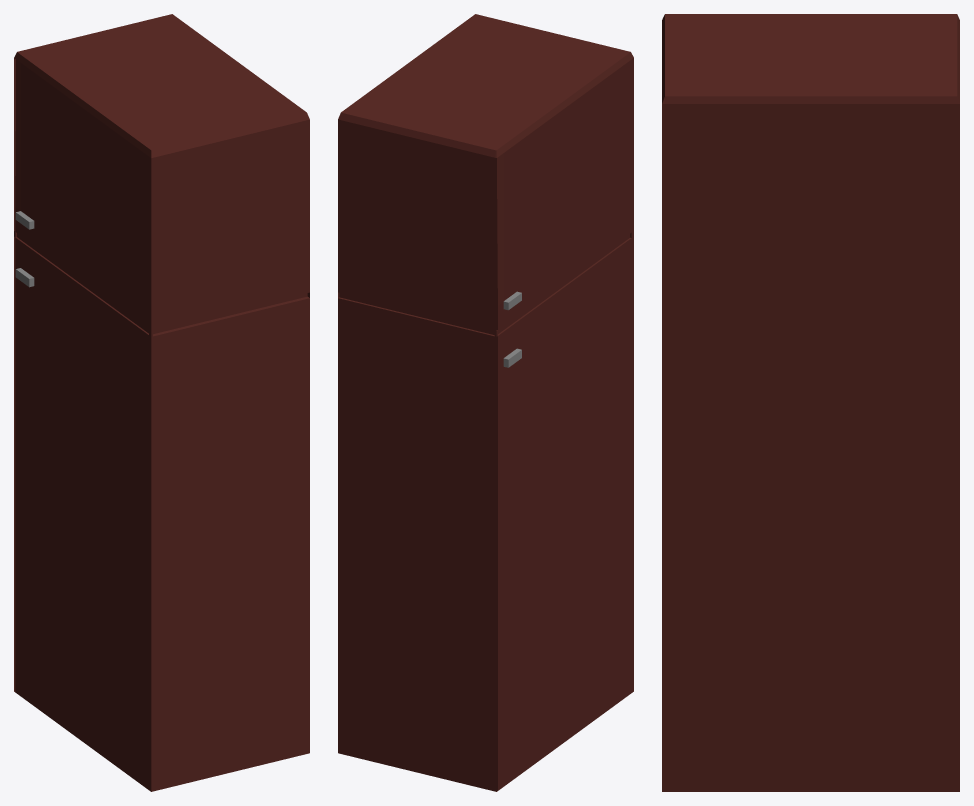
The model's file is kühlschrank.fbx.
The picture shows the model from 3 angles, left to right: view 1: azimuth 30°, elevation 25°; view 2: azimuth 150°, elevation 25°; view 3: azimuth 270°, elevation 25°; orthographic projection. The views are drawn at different scales.
Parts seen in each view (by area): view 1: Cube; view 2: Cube; view 3: Cube.
Part boxes in pixels (x1,y1,x2,y2): Cube: [14, 14, 309, 791]; Cube: [338, 14, 633, 791]; Cube: [662, 14, 959, 791].
Size of the model in its own units: 49.32 by 184 by 71.61.
